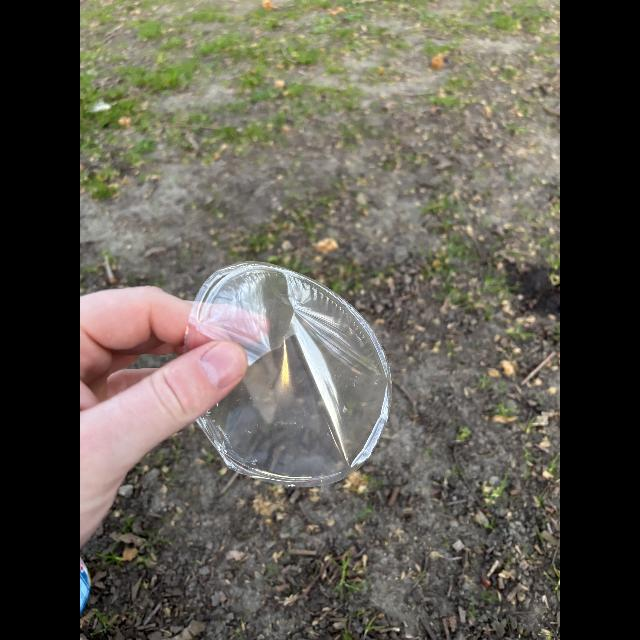Plastic: (182, 246, 394, 496)
